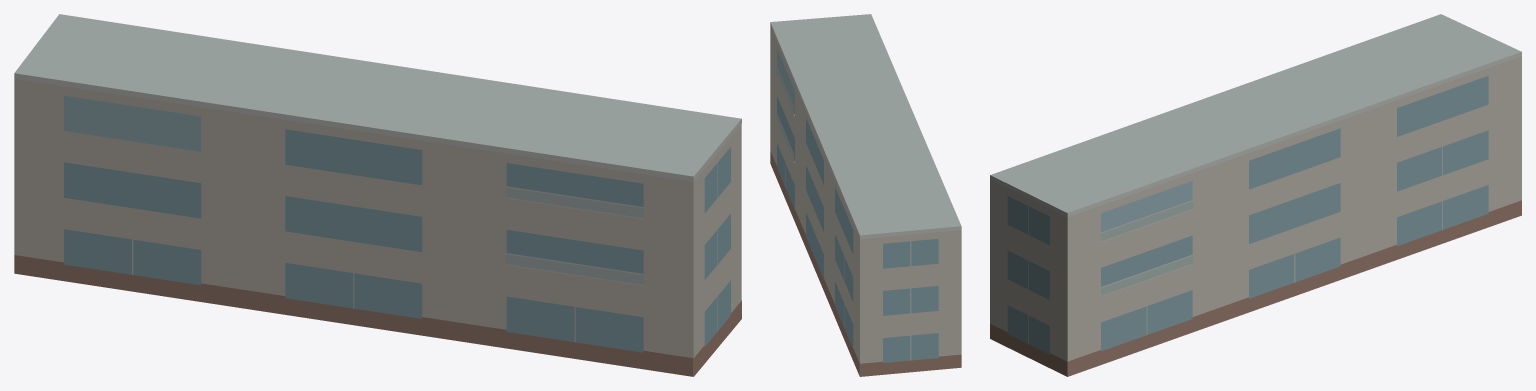
File: survey-upis-32696418.glb
3 renders of one model, left to right at view 1: azimuth 30°, elevation 25°; view 2: azimuth 150°, elevation 25°; view 3: azimuth 270°, elevation 25°, orthographic. The views are drawn at different scales.
Visible parts, largest first — view 1: survey-upis-32696418.tmp; view 2: survey-upis-32696418.tmp; view 3: survey-upis-32696418.tmp.
Part boxes in pixels (<box>): survey-upis-32696418.tmp: <box>14,14,741,376</box>; survey-upis-32696418.tmp: <box>770,14,961,376</box>; survey-upis-32696418.tmp: <box>990,14,1521,376</box>.
Size of the model in its own units: 23.87 by 9.15 by 26.93.
